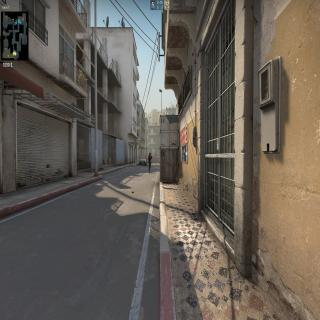T-Head: (149, 152, 151, 156)
